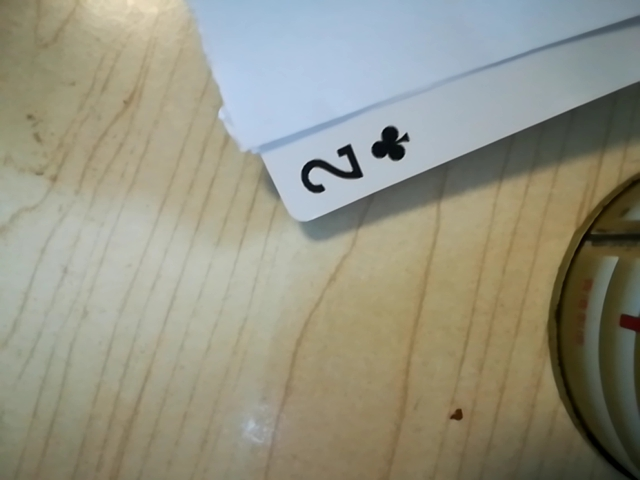mh 2: (280, 112, 426, 210)
